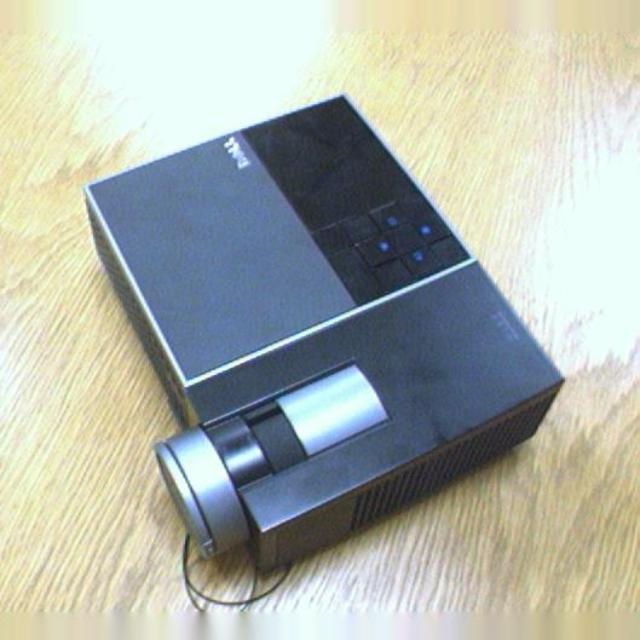Projector: (81, 93, 564, 569)
